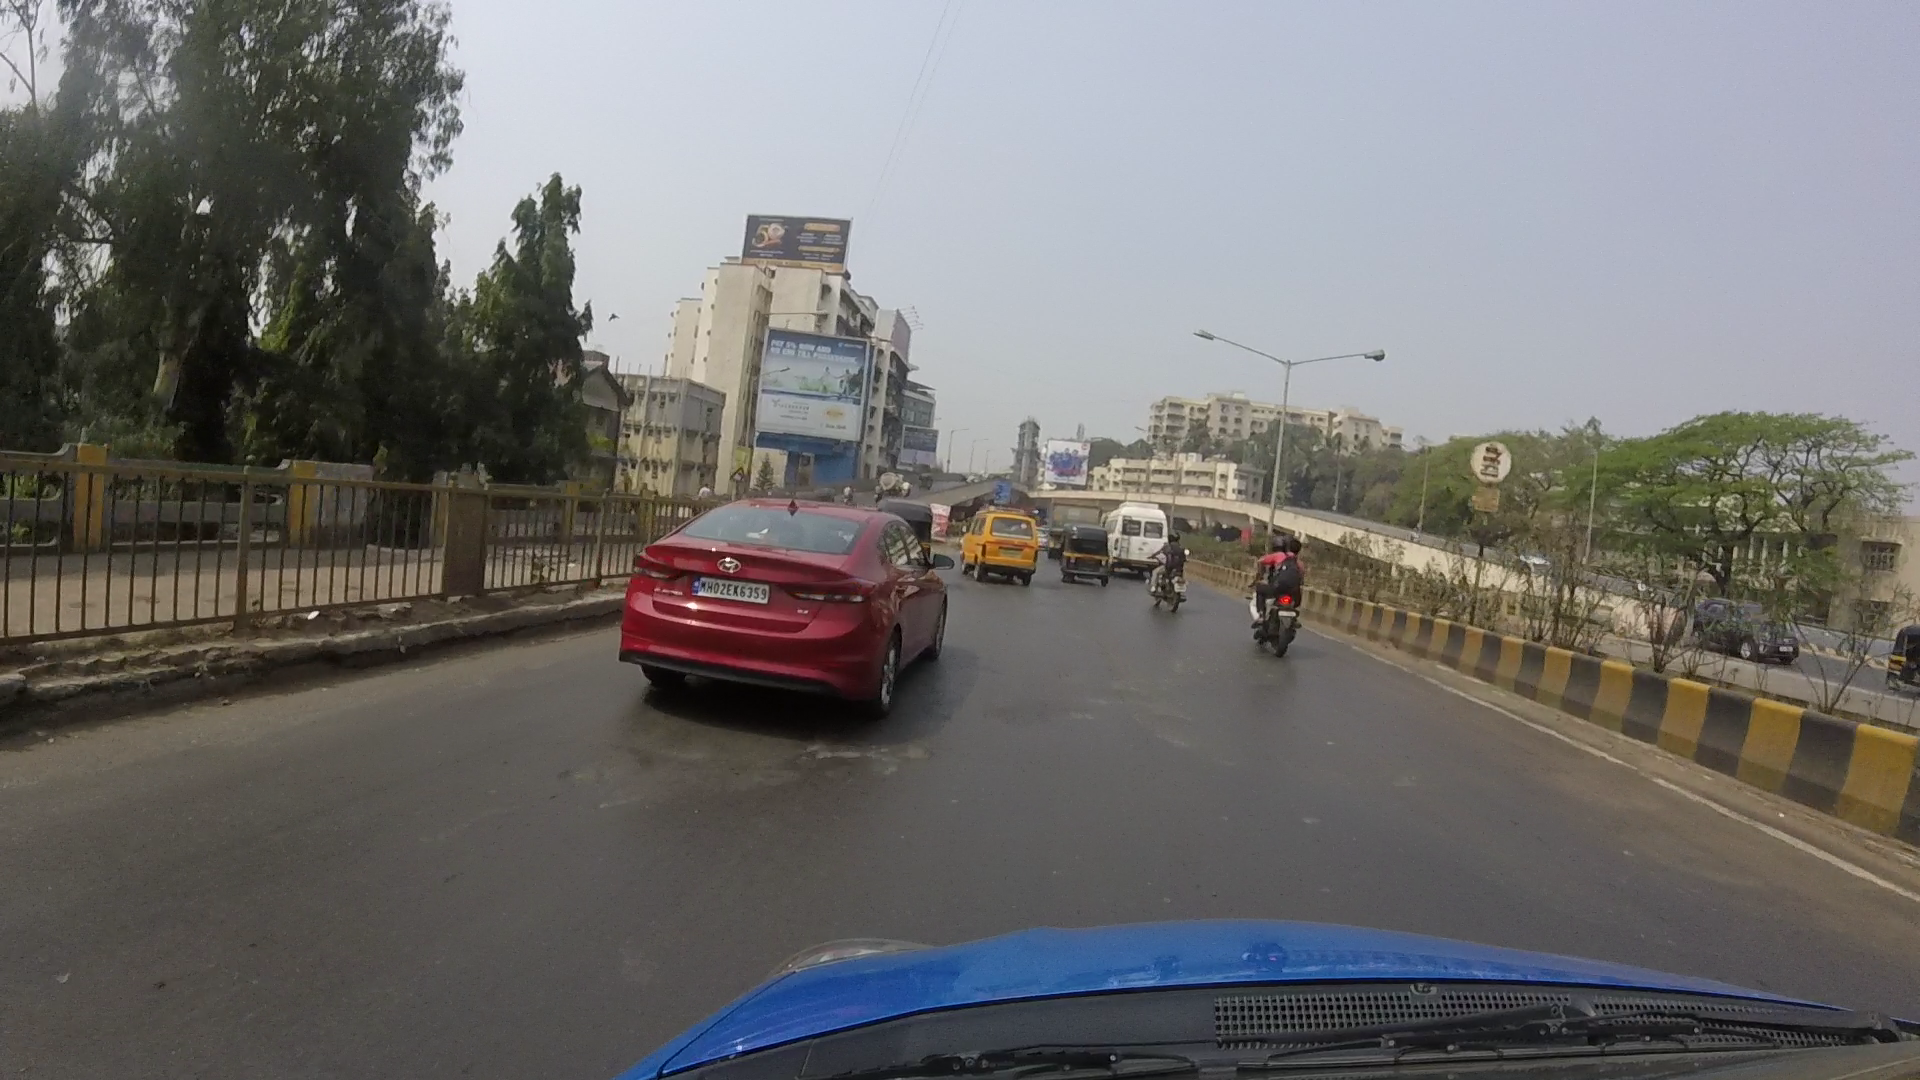bike/scooter: (1234, 516, 1305, 654), (1146, 510, 1184, 607)
car: (613, 492, 952, 719), (955, 501, 1034, 578)
rickshaw: (1046, 520, 1108, 580)
